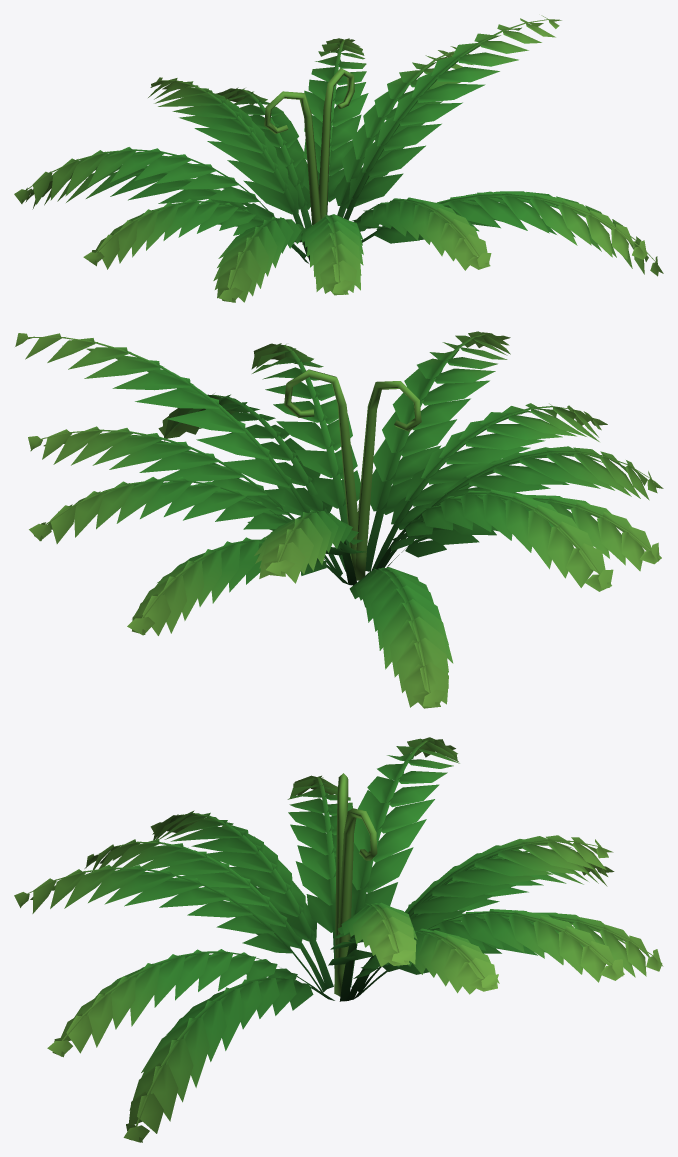
Rendered from fern.glb.
3 views of the same model, one above another, from view 1: azimuth 30°, elevation 25°; view 2: azimuth 150°, elevation 25°; view 3: azimuth 270°, elevation 25° (orthographic). The views are drawn at different scales.
Visible parts, largest first — view 1: fern; view 2: fern; view 3: fern.
Part boxes in pixels (bbox=[...]): fern: bbox=[14, 15, 663, 302]; fern: bbox=[15, 331, 663, 708]; fern: bbox=[14, 737, 663, 1142].
Bounding box in the file's own units: 1.17 × 0.3951 × 1.11.
